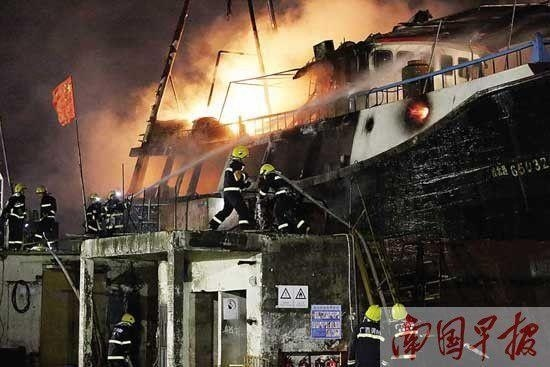fire: (408, 101, 428, 119)
